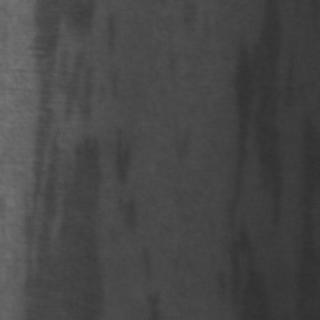inclusion: (26, 0, 100, 316), (228, 2, 288, 314), (112, 122, 146, 234), (166, 118, 190, 166)
